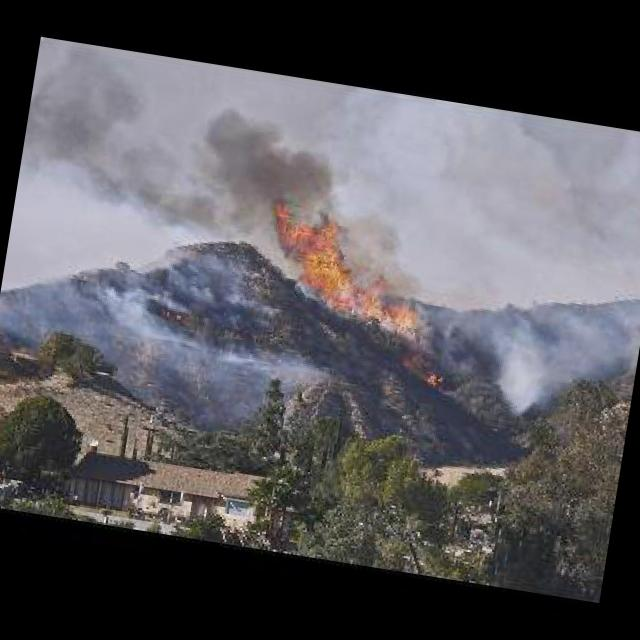Fire: (251, 182, 433, 334)
Smoke: (0, 212, 343, 444), (31, 53, 337, 244), (417, 240, 640, 430)
